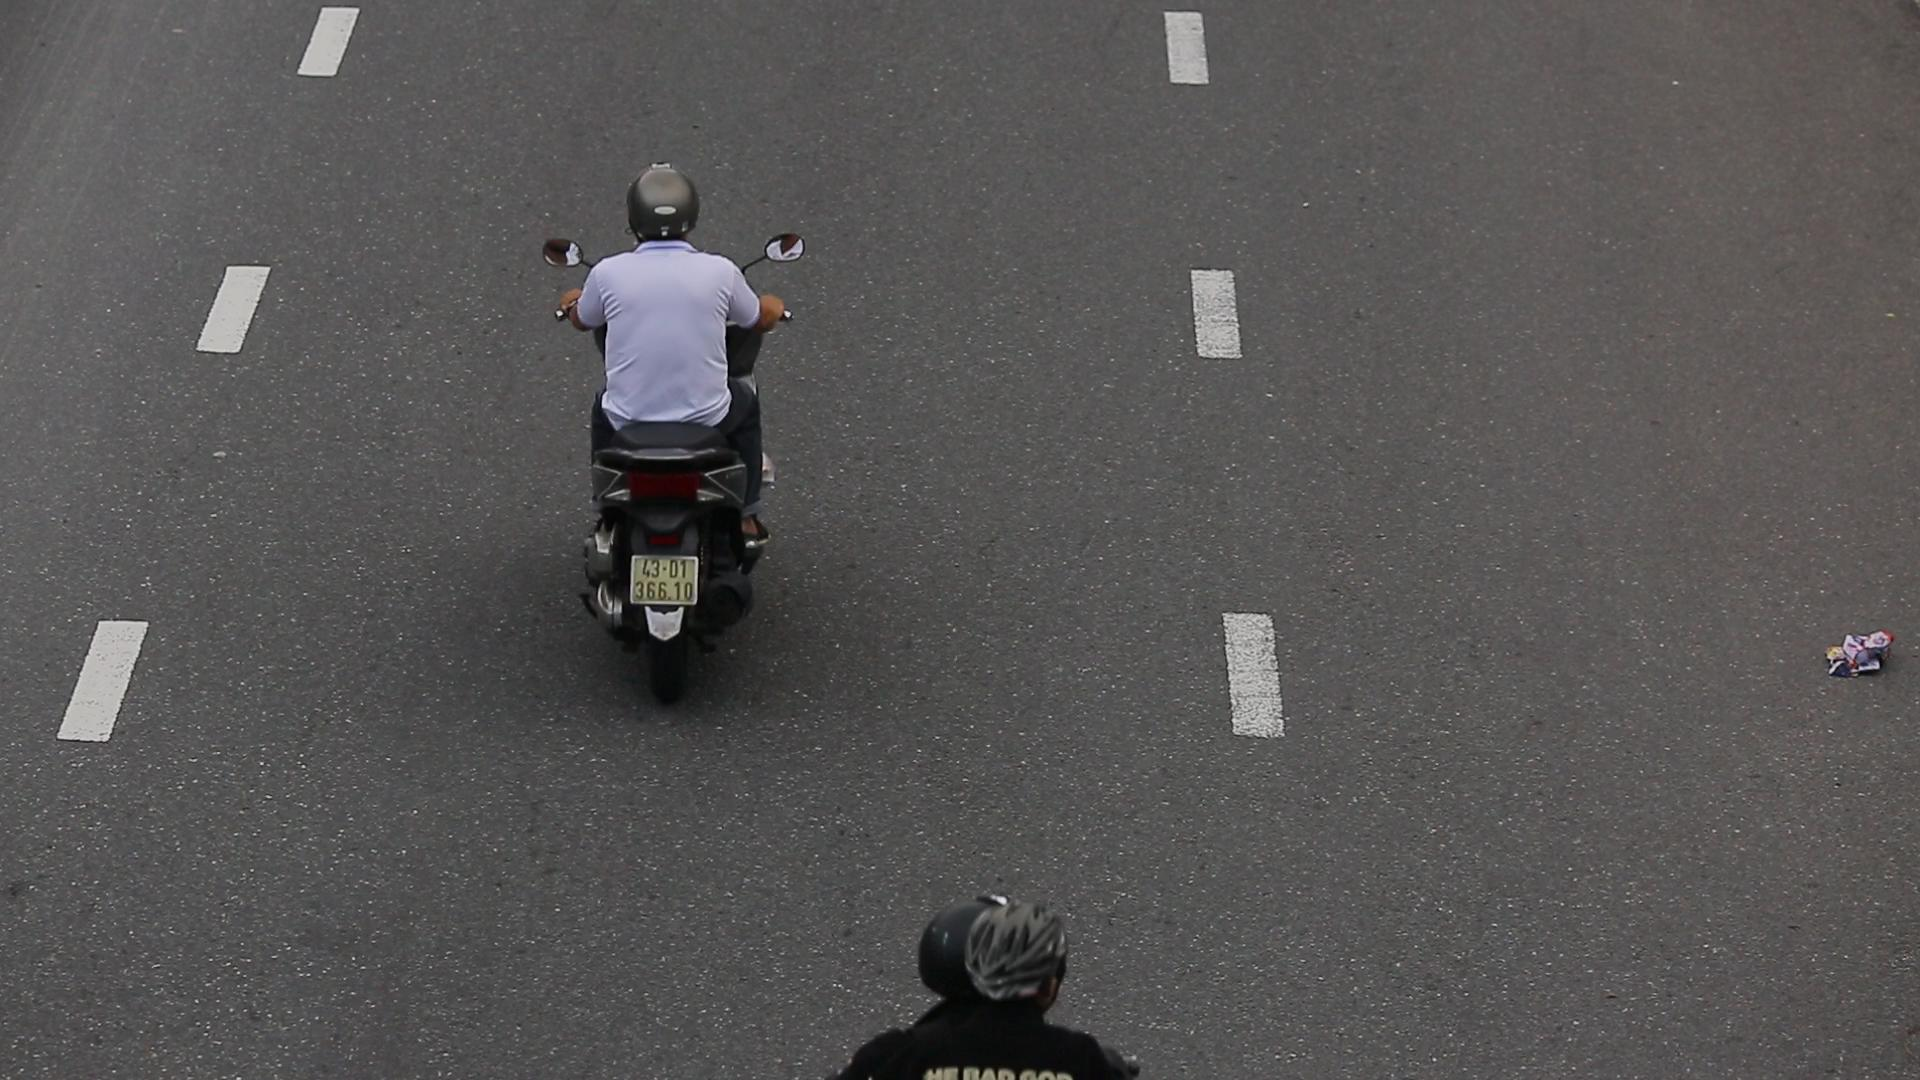motobike: (521, 131, 827, 705)
